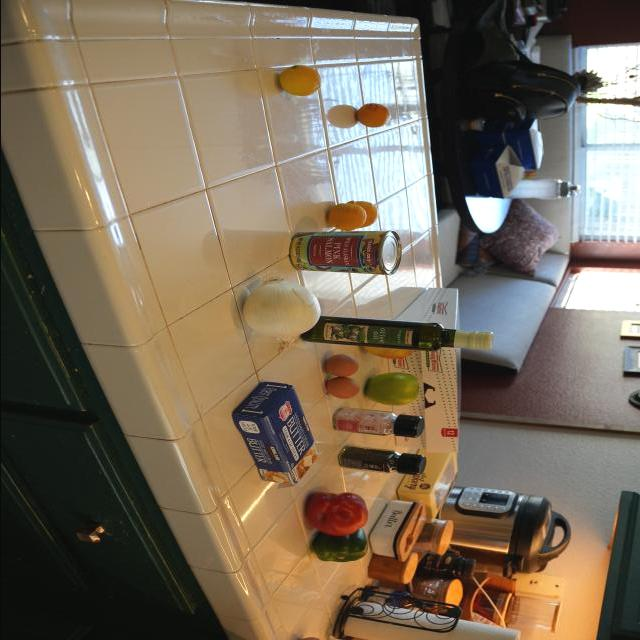bell_pepper: (304, 525, 372, 569), (306, 491, 372, 536), (339, 447, 429, 477)
egg: (318, 355, 361, 378), (325, 377, 361, 401)
onion: (234, 278, 320, 350)
